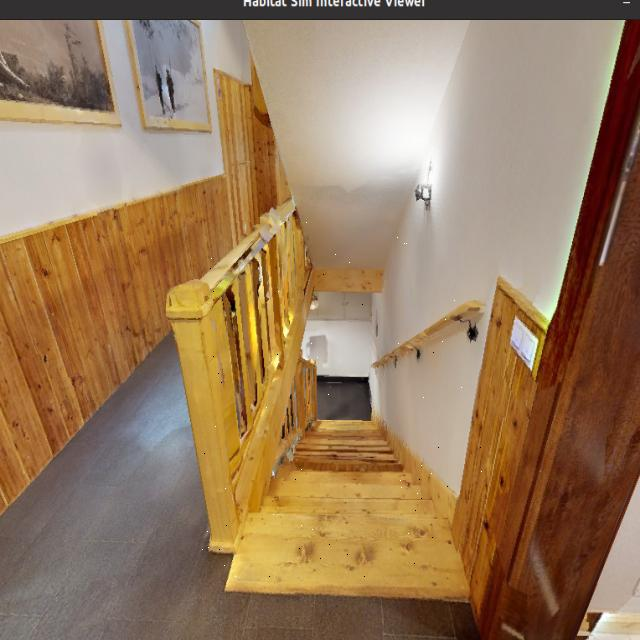stairs: (199, 212, 485, 581)
